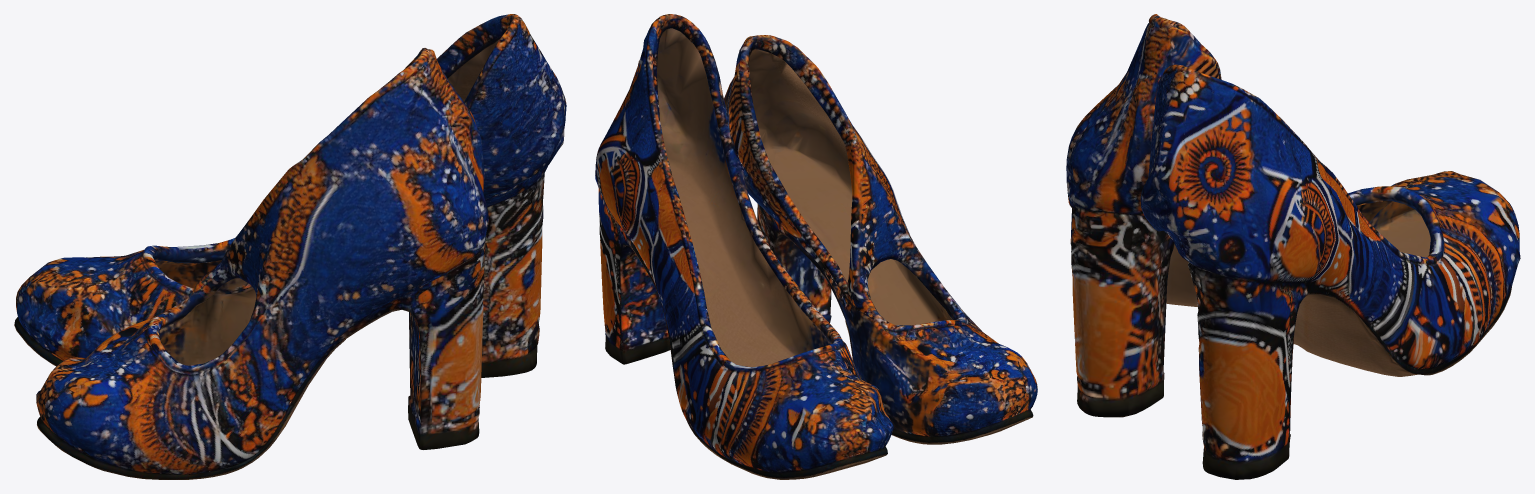
File: escarpins.glb
The picture shows the model from 3 angles, left to right: view 1: azimuth 30°, elevation 25°; view 2: azimuth 150°, elevation 25°; view 3: azimuth 270°, elevation 25°; orthographic projection. The views are drawn at different scales.
Visible parts, largest first — view 1: tripo_node_d2615c71-bcdf-4aa0-aeeb-9c728325e3ae; view 2: tripo_node_d2615c71-bcdf-4aa0-aeeb-9c728325e3ae; view 3: tripo_node_d2615c71-bcdf-4aa0-aeeb-9c728325e3ae.
Boxes of the visible parts, box(x1,y1,x2,y2) form: tripo_node_d2615c71-bcdf-4aa0-aeeb-9c728325e3ae: box(14, 14, 566, 479); tripo_node_d2615c71-bcdf-4aa0-aeeb-9c728325e3ae: box(595, 14, 1037, 479); tripo_node_d2615c71-bcdf-4aa0-aeeb-9c728325e3ae: box(1066, 14, 1520, 479).
Bounding box in the file's own units: 0.9997 × 0.7091 × 0.7445.
Materials: 1 (1 with a texture image).
